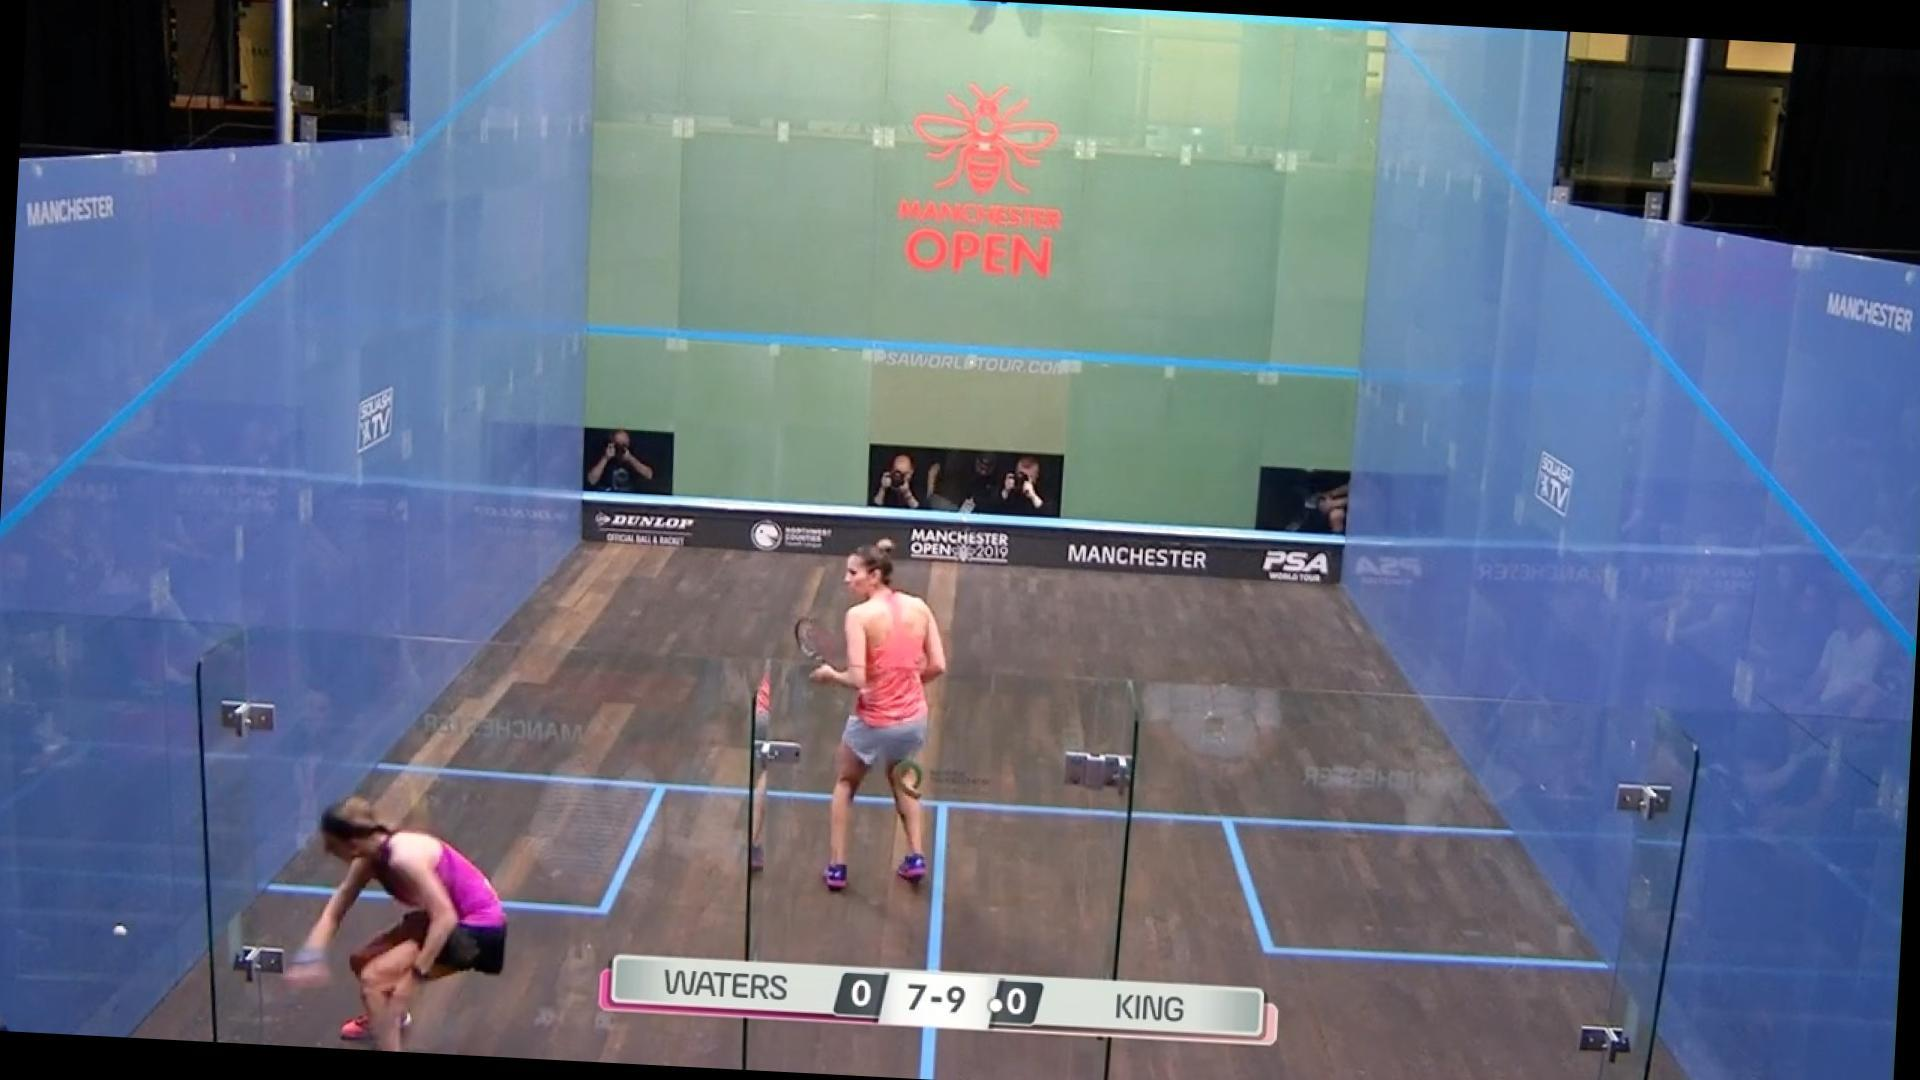Squash-Ball: (92, 903, 156, 956)
